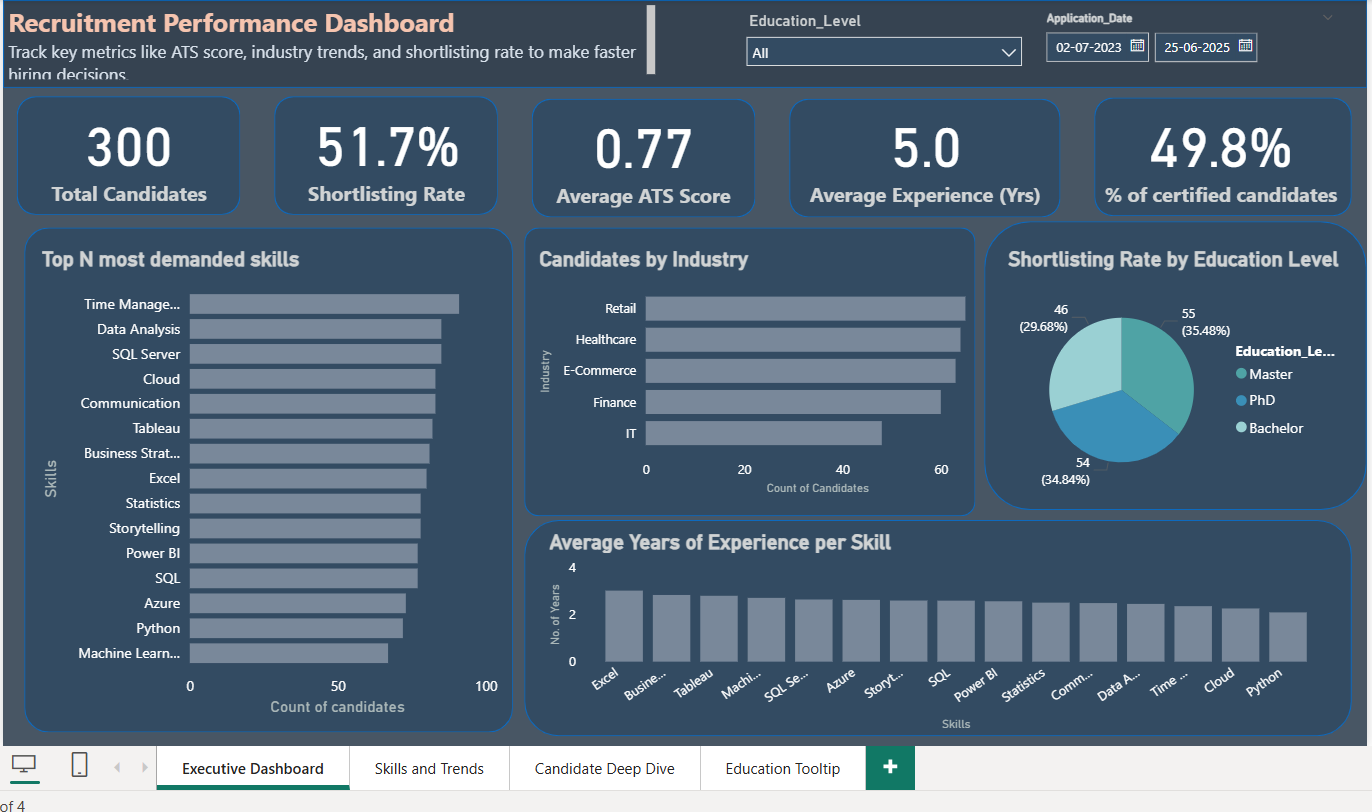

Layout of this report page (visuals, bound fields, positions):
{"tool":"powerbi","page":{"name":"Executive Dashboard","canvas":[1280,700],"ordinal":0},"visuals":[{"type":"shape","box":[19.9,213.5,458.6,473.9],"z":0},{"type":"shape","box":[1024,91.5,241.6,111.4],"z":1000},{"type":"shape","box":[737.8,92.7,254.5,111.4],"z":2000},{"type":"shape","box":[496.1,92.7,210,111.4],"z":3000},{"type":"shape","box":[254.5,90.3,210,111.4],"z":4000},{"type":"shape","box":[0,0,1280.2,82.6],"z":5000},{"type":"textbox","box":[0,0,617,79.8],"z":6000},{"type":"shape","box":[12.9,90.3,210,111.4],"z":7000},{"type":"card","fields":{"Values":["CountNonNull(Candidates.Candidate_ID)"]},"box":[19.9,89.1,197.1,110.3],"z":8000},{"type":"card","fields":{"Values":["Candidates.Shortlisting Rate"]},"box":[268.6,84.5,183,118.5],"z":9000},{"type":"card","fields":{"Values":["Candidates.Average ATS Score"]},"box":[513.7,91.5,174.8,107.9],"z":10000},{"type":"card","fields":{"Values":["Candidates.Average Experience"]},"box":[743.6,77.4,244,134.9],"z":11000},{"type":"shape","box":[489.1,213.5,423.4,270.9],"z":12000},{"type":"shape","box":[920.7,207.6,358.9,270.9],"z":13000},{"type":"barChart","title":"Candidates by Industry","fields":{"Category":["Candidates.Industry"],"Y":["CountNonNull(Candidates.Candidate_ID)"]},"box":[498.5,232.2,439.8,236.9],"z":14000},{"type":"slicer","fields":{"Values":["Candidates.Application_Date"]},"box":[966.3,5.8,294.2,70.9],"z":15000},{"type":"card","fields":{"Values":["Candidate_Skills.% of certified candidates"]},"box":[1025.1,66.9,235.8,154.8],"z":16000},{"type":"shape","box":[489.1,487.9,776.5,202.9],"z":17000},{"type":"clusteredBarChart","title":"Top N most demanded skills","fields":{"Category":["Skills.Skill_Name"],"Y":["CountNonNull(Candidate_Skills.Skill_ID)"]},"box":[31.7,232.2,437.5,444.5],"z":18000},{"type":"clusteredColumnChart","title":"Average Years of Experience per Skill","fields":{"Category":["Skills.Skill_Name"],"Y":["Candidate_Skills.Average year used per skill"]},"box":[507.9,497.3,738.9,193.5],"z":19000},{"type":"pieChart","title":"Shortlisting Rate by Education Level","fields":{"Category":["Candidates.Education_Level"],"Y":["Candidates.Shortlisted_value"]},"box":[938.3,232.2,324.9,246.3],"z":20000},{"type":"slicer","fields":{"Values":["Candidates.Education_Level"]},"box":[687.3,5.9,279.2,70.4],"z":21000}]}

Visuals, with their boxes on the page's 1280x700 design canvas (x1, y1, x2, y2). These are canvas units, not pixel positions in the 1372x812 screenshot, which may show the page scaled, cropped or inside an application window:
shape: (left=20, top=214, right=478, bottom=687)
shape: (left=1024, top=92, right=1266, bottom=203)
shape: (left=738, top=93, right=992, bottom=204)
shape: (left=496, top=93, right=706, bottom=204)
shape: (left=254, top=90, right=464, bottom=202)
shape: (left=0, top=0, right=1280, bottom=83)
textbox: (left=0, top=0, right=617, bottom=80)
shape: (left=13, top=90, right=223, bottom=202)
card - CountNonNull(Candidates.Candidate_ID): (left=20, top=89, right=217, bottom=199)
card - Candidates.Shortlisting Rate: (left=269, top=84, right=452, bottom=203)
card - Candidates.Average ATS Score: (left=514, top=92, right=688, bottom=199)
card - Candidates.Average Experience: (left=744, top=77, right=988, bottom=212)
shape: (left=489, top=214, right=912, bottom=484)
shape: (left=921, top=208, right=1280, bottom=478)
"Candidates by Industry" barChart: (left=498, top=232, right=938, bottom=469)
slicer - Candidates.Application_Date: (left=966, top=6, right=1260, bottom=77)
card - Candidate_Skills.% of certified candidates: (left=1025, top=67, right=1261, bottom=222)
shape: (left=489, top=488, right=1266, bottom=691)
"Top N most demanded skills" clusteredBarChart: (left=32, top=232, right=469, bottom=677)
"Average Years of Experience per Skill" clusteredColumnChart: (left=508, top=497, right=1247, bottom=691)
"Shortlisting Rate by Education Level" pieChart: (left=938, top=232, right=1263, bottom=478)
slicer - Candidates.Education_Level: (left=687, top=6, right=966, bottom=76)
